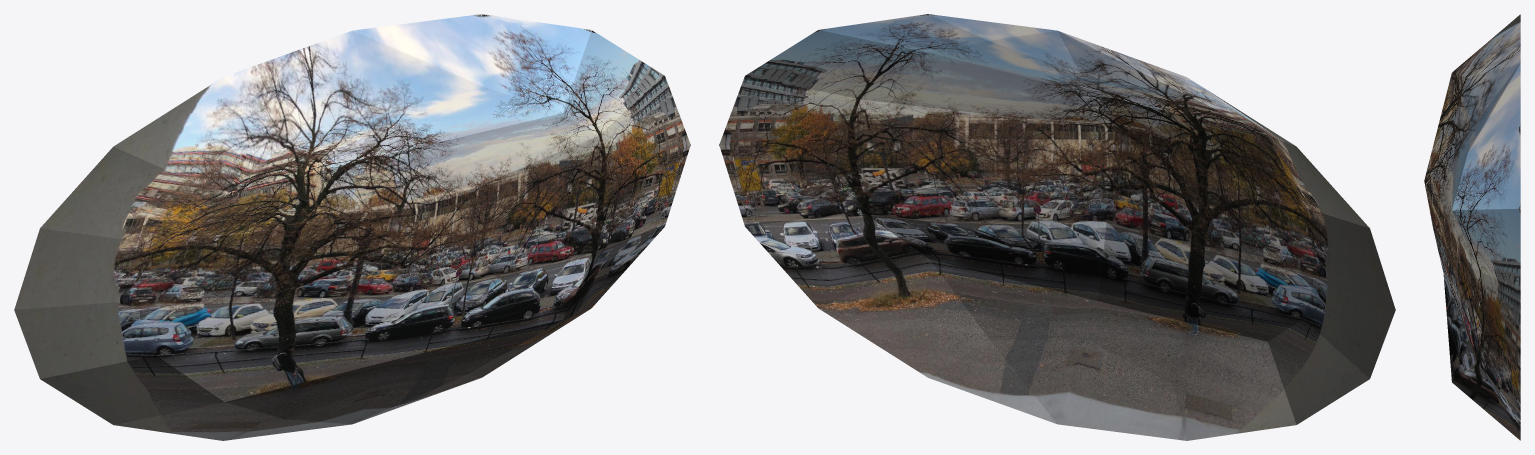
File: Photo_Sphere_right.fbx
The picture shows the model from 3 angles, left to right: view 1: azimuth 30°, elevation 25°; view 2: azimuth 150°, elevation 25°; view 3: azimuth 270°, elevation 25°; orthographic projection. The views are drawn at different scales.
Parts seen in each view (by area): view 1: Photo_model; view 2: Photo_model; view 3: Photo_model.
Boxes of the visible parts, x1,y1,x2,y2 form: Photo_model: (14, 14, 690, 440); Photo_model: (719, 14, 1395, 440); Photo_model: (1424, 14, 1520, 440).
Bounding box in the file's own units: 155 × 86.18 × 22.96.
Materials: 1 (1 with a texture image).
